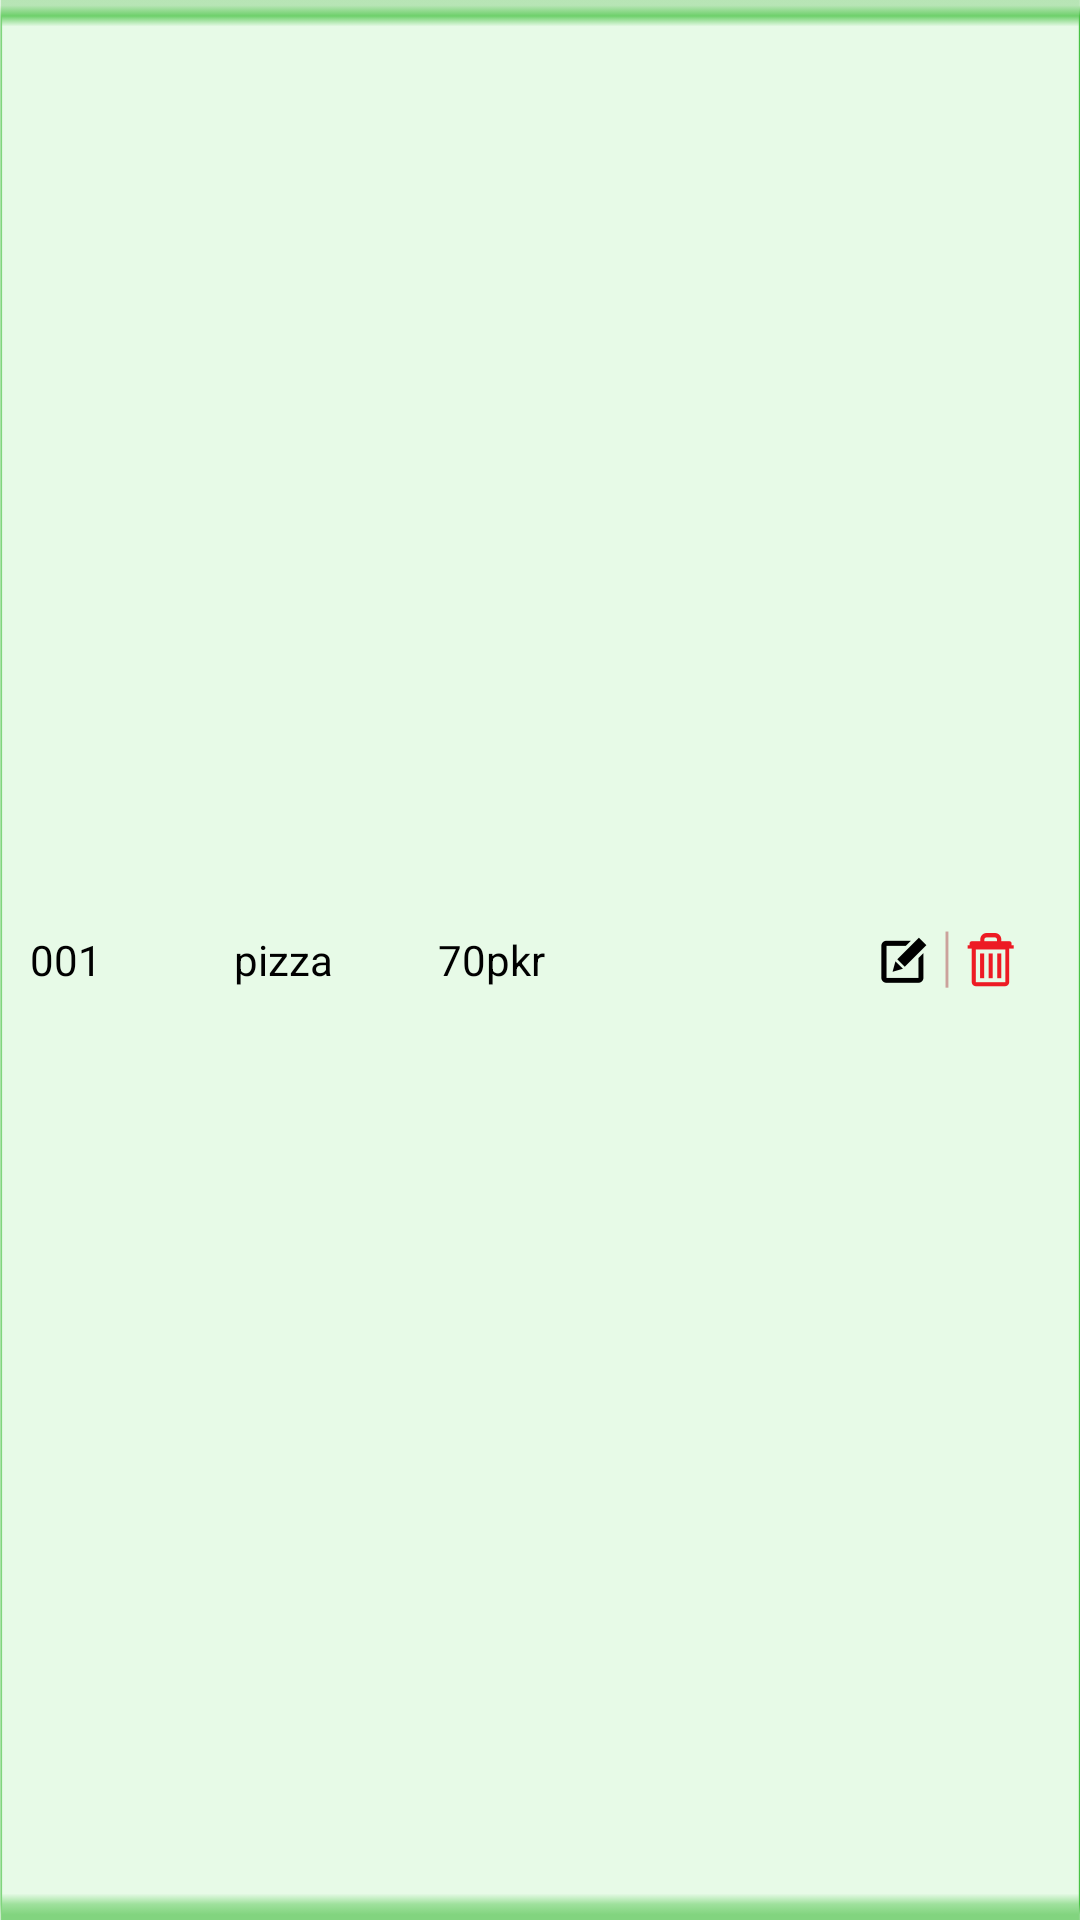

Named icons in this screenshot (1080px x 1920px) and their centers, (x,y):
delete: (990,960)
edit: (904,960)
